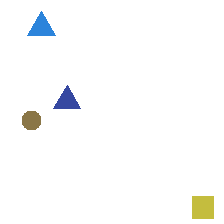circle: (22, 111, 40, 129)
rectangle: (192, 196, 213, 218)
triangle: (27, 11, 55, 35), (53, 85, 80, 108)
